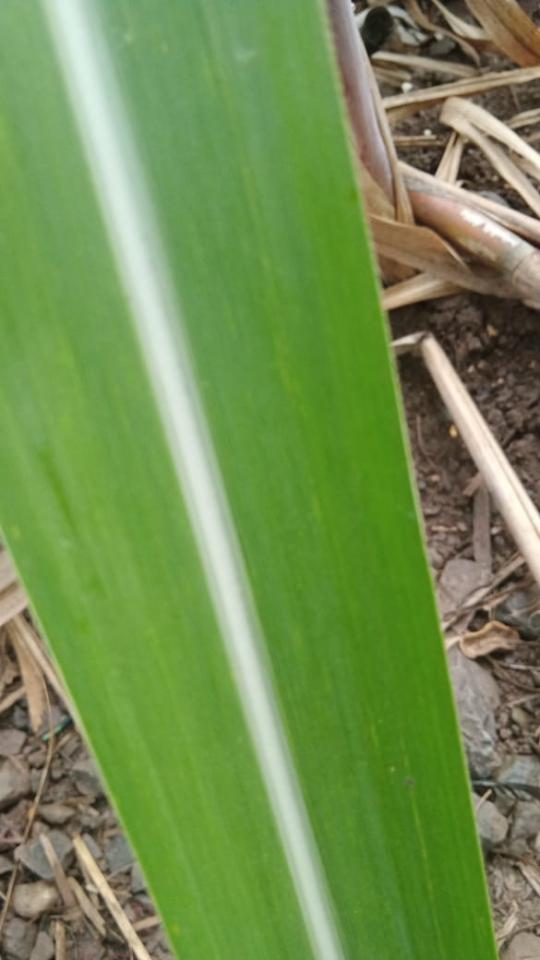Healthy: (0, 0, 502, 959)
